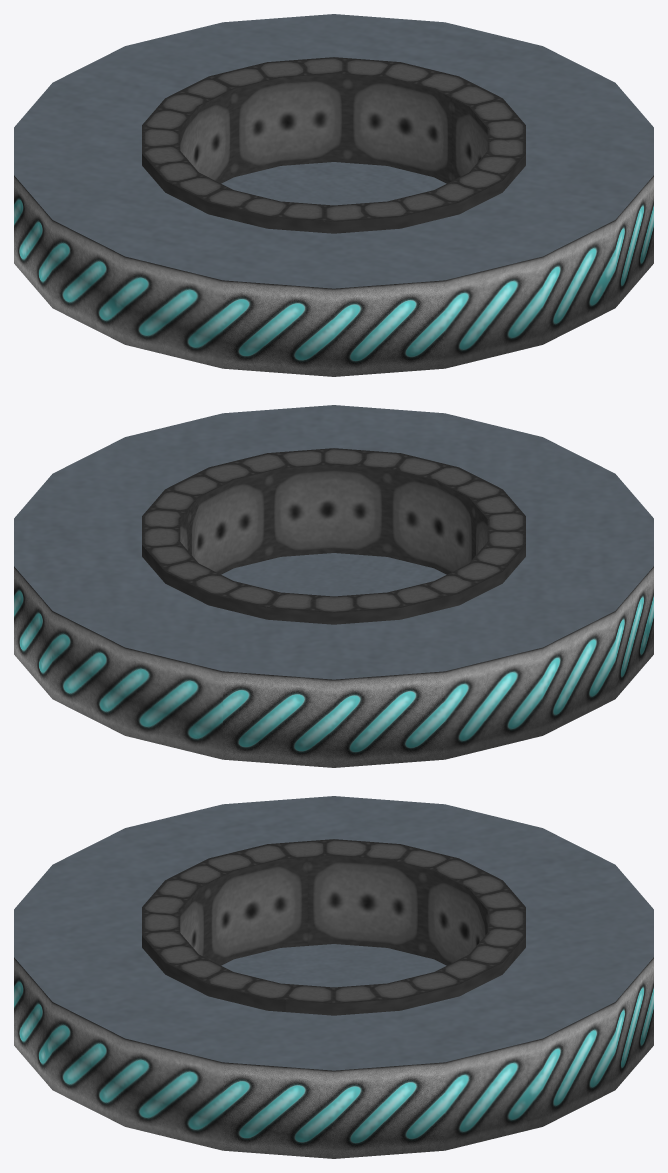
The model's file is Lamp01.fbx.
3 views of the same model, one above another, from view 1: azimuth 30°, elevation 25°; view 2: azimuth 150°, elevation 25°; view 3: azimuth 270°, elevation 25° (orthographic).
Parts seen in each view (by area): view 1: Lamp01; view 2: Lamp01; view 3: Lamp01.
Part boxes in pixels (<box>): Lamp01: <box>14,14,653,376</box>; Lamp01: <box>14,405,653,767</box>; Lamp01: <box>14,796,653,1158</box>.
Bounding box in the file's own units: 100 × 17 × 98.48.
